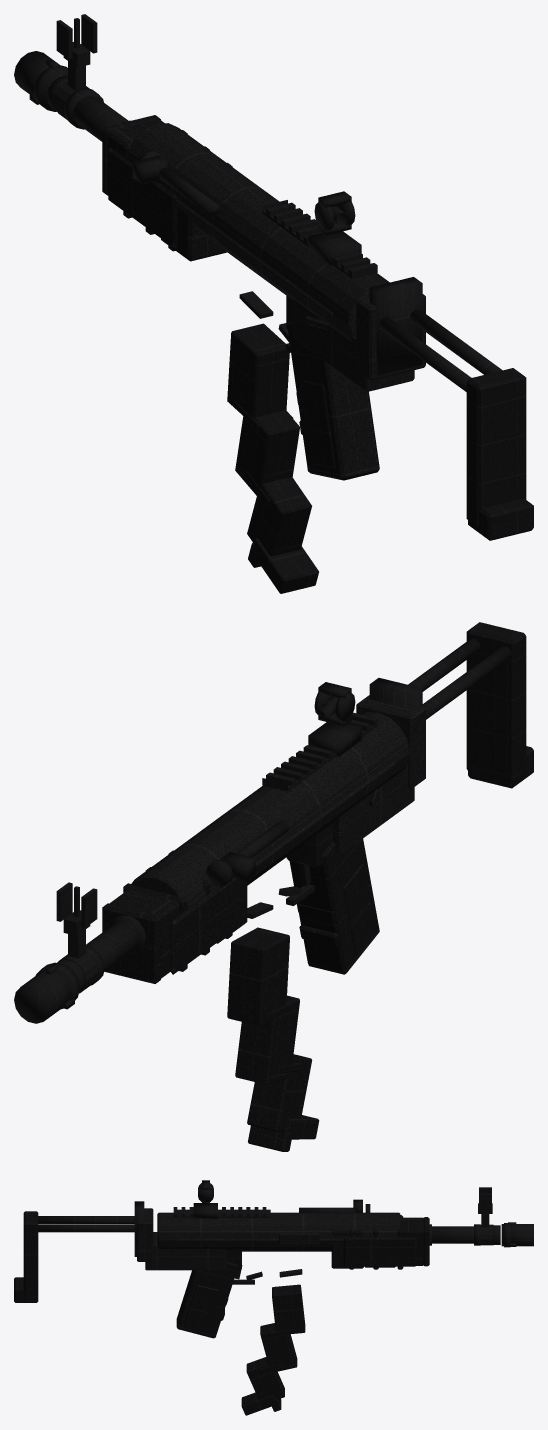
3 views of the same model, one above another, from view 1: azimuth 30°, elevation 25°; view 2: azimuth 150°, elevation 25°; view 3: azimuth 270°, elevation 25° (orthographic). The views are drawn at different scales.
Parts seen in each view (by area): view 1: mp5_receiver, mp5_magazine, mp5_stock_plate, mp5_grip_frame, mp5_handguard, mp5_stock_rails, mp5_rear_drum, mp5_front_sight, mp5_claw_rail, mp5_barrel_jacket, mp5_muzzle, mp5_charging; view 2: mp5_receiver, mp5_magazine, mp5_handguard, mp5_grip_frame, mp5_stock_plate, mp5_stock_rails, mp5_muzzle, mp5_rear_drum, mp5_front_sight, mp5_barrel_jacket, mp5_claw_rail, mp5_charging (+1 smaller); view 3: mp5_receiver, mp5_magazine, mp5_handguard, mp5_grip_frame, mp5_stock_rails, mp5_stock_plate, mp5_barrel_jacket, mp5_muzzle, mp5_front_sight, mp5_claw_rail, mp5_rear_drum, mp5_charging (+1 smaller).
Boxes of the visible parts, left/top/right/bottom form: mp5_receiver: left=127, top=123, right=425, bottom=391; mp5_magazine: left=227, top=323, right=318, bottom=593; mp5_stock_plate: left=466, top=368, right=533, bottom=540; mp5_grip_frame: left=286, top=296, right=379, bottom=480; mp5_handguard: left=102, top=115, right=232, bottom=261; mp5_stock_rails: left=369, top=277, right=502, bottom=391; mp5_rear_drum: left=308, top=191, right=361, bottom=265; mp5_front_sight: left=52, top=14, right=97, bottom=119; mp5_claw_rail: left=262, top=200, right=377, bottom=278; mp5_barrel_jacket: left=46, top=75, right=130, bottom=141; mp5_muzzle: left=14, top=51, right=67, bottom=111; mp5_charging: left=133, top=149, right=220, bottom=216; mp5_receiver: left=131, top=695, right=425, bottom=909; mp5_magazine: left=227, top=927, right=319, bottom=1151; mp5_handguard: left=102, top=850, right=247, bottom=983; mp5_grip_frame: left=286, top=823, right=379, bottom=974; mp5_stock_plate: left=466, top=622, right=533, bottom=788; mp5_stock_rails: left=369, top=638, right=511, bottom=719; mp5_muzzle: left=14, top=962, right=79, bottom=1023; mp5_rear_drum: left=308, top=682, right=361, bottom=756; mp5_front_sight: left=56, top=882, right=98, bottom=993; mp5_barrel_jacket: left=57, top=915, right=145, bottom=992; mp5_claw_rail: left=262, top=712, right=377, bottom=791; mp5_charging: left=206, top=820, right=288, bottom=887; mp5_receiver: left=137, top=1208, right=400, bottom=1270; mp5_magazine: left=241, top=1284, right=305, bottom=1415; mp5_handguard: left=331, top=1215, right=429, bottom=1269; mp5_grip_frame: left=176, top=1251, right=241, bottom=1338; mp5_stock_rails: left=38, top=1201, right=144, bottom=1256; mp5_stock_plate: left=14, top=1211, right=38, bottom=1302; mp5_barrel_jacket: left=429, top=1224, right=500, bottom=1245; mp5_muzzle: left=501, top=1222, right=533, bottom=1247; mp5_front_sight: left=478, top=1187, right=493, bottom=1245; mp5_claw_rail: left=173, top=1207, right=270, bottom=1217; mp5_rear_drum: left=193, top=1180, right=217, bottom=1218; mp5_charging: left=299, top=1199, right=370, bottom=1212.
Bounding box in the file's own units: 0.07 × 0.3099 × 0.642.
Materials: 2 (2 with a texture image).
